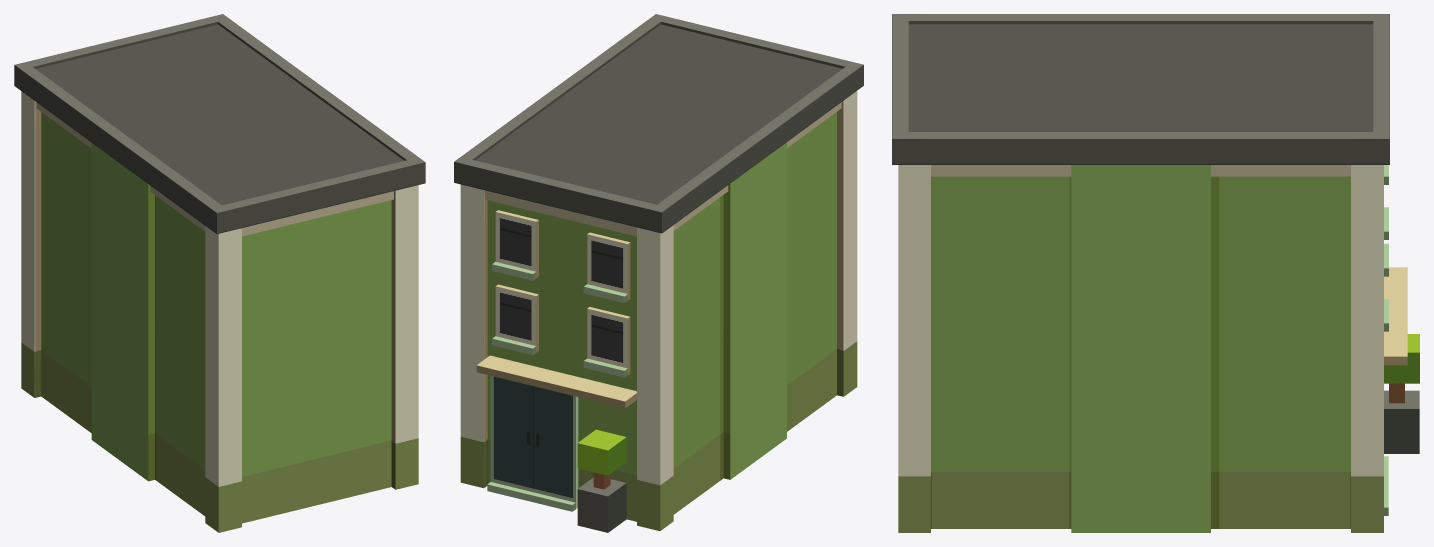
File: apartment_large_thin_short.fbx
3 views of the same model, side by side, from view 1: azimuth 30°, elevation 25°; view 2: azimuth 150°, elevation 25°; view 3: azimuth 270°, elevation 25° (orthographic). The views are drawn at different scales.
Visible parts, largest first — view 1: apartment_large_thin_short; view 2: apartment_large_thin_short; view 3: apartment_large_thin_short.
Part boxes in pixels (x1,y1,x2,y2): apartment_large_thin_short: (14,14,425,532); apartment_large_thin_short: (454,14,863,532); apartment_large_thin_short: (892,14,1419,532).
Size of the model in its own units: 6.91 by 10.23 by 12.33.
1 material, 1 textured.
